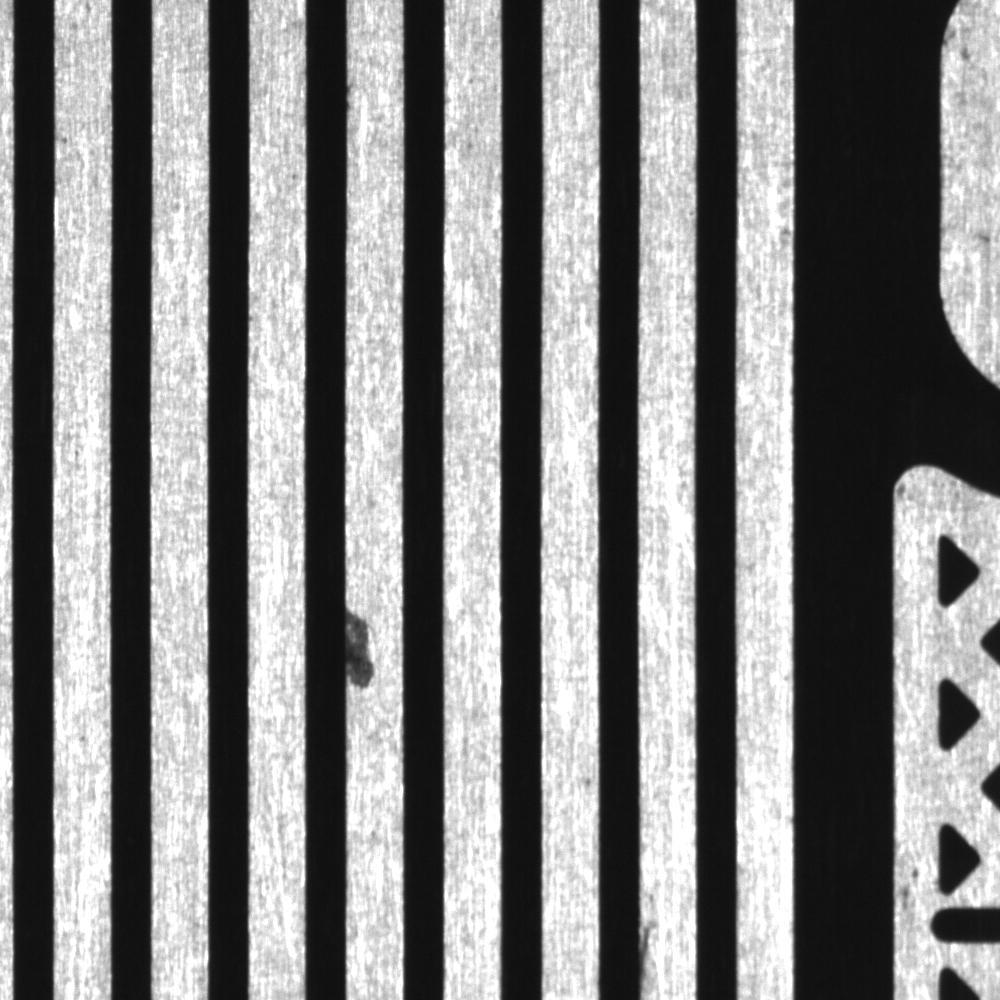Discolor: (340, 580, 396, 719), (638, 894, 676, 998)
